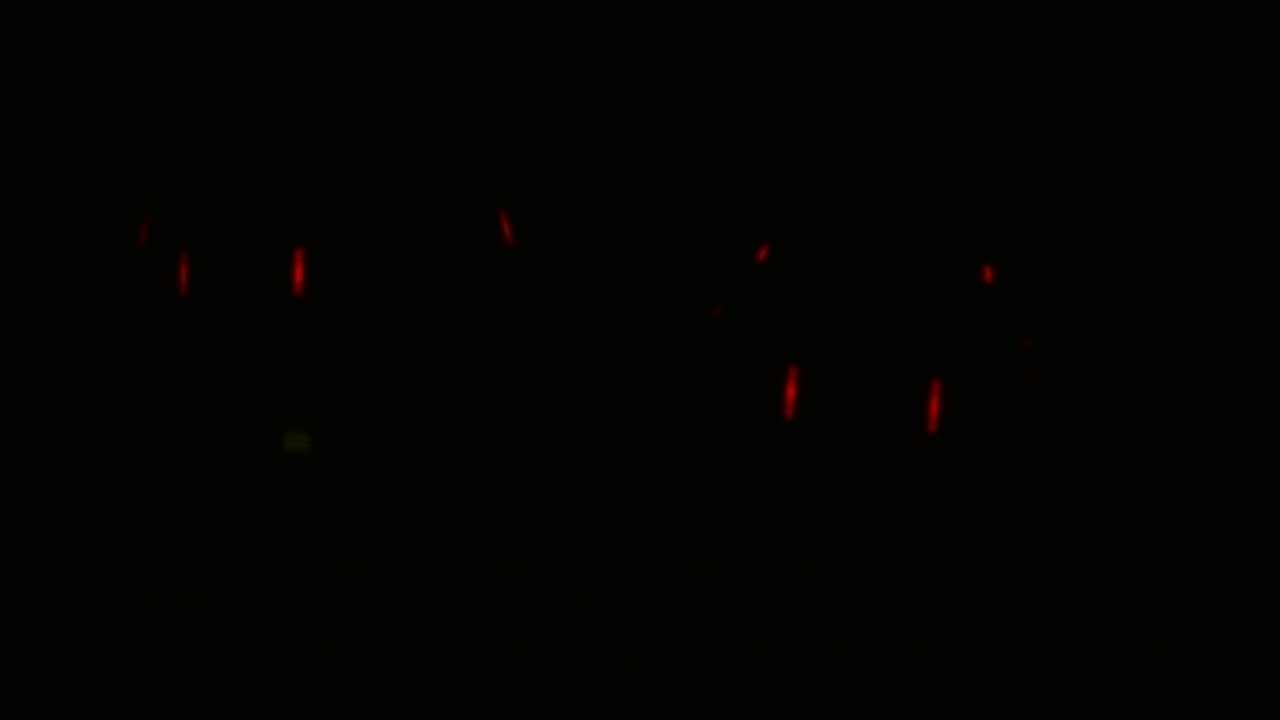pair1: (773, 362, 949, 437), (171, 246, 308, 304)
